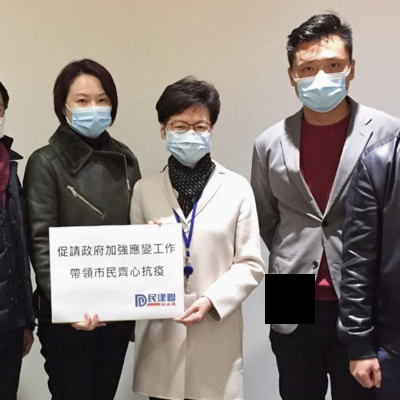with_mask: (291, 54, 352, 113), (165, 115, 213, 165), (66, 91, 115, 136)
